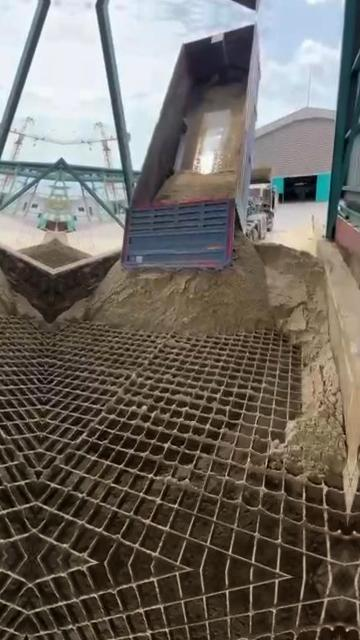sand: (81, 235, 345, 474), (181, 82, 245, 172), (157, 170, 236, 200), (53, 238, 87, 268), (54, 298, 87, 323)
